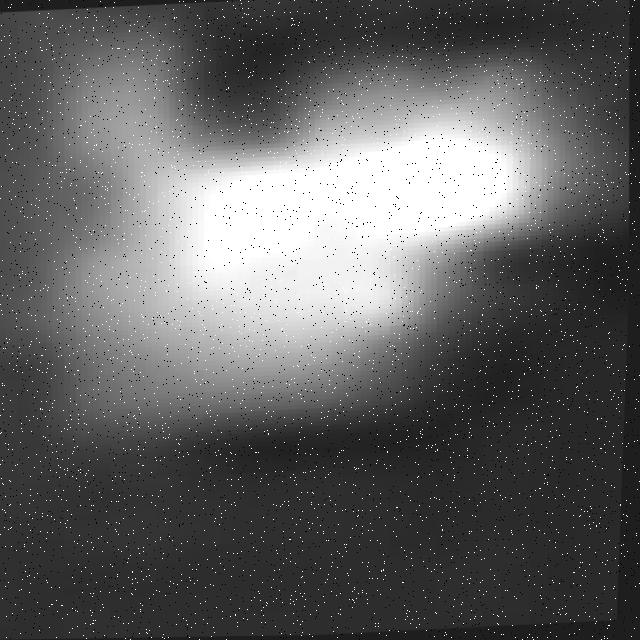person: (1, 36, 620, 441)
